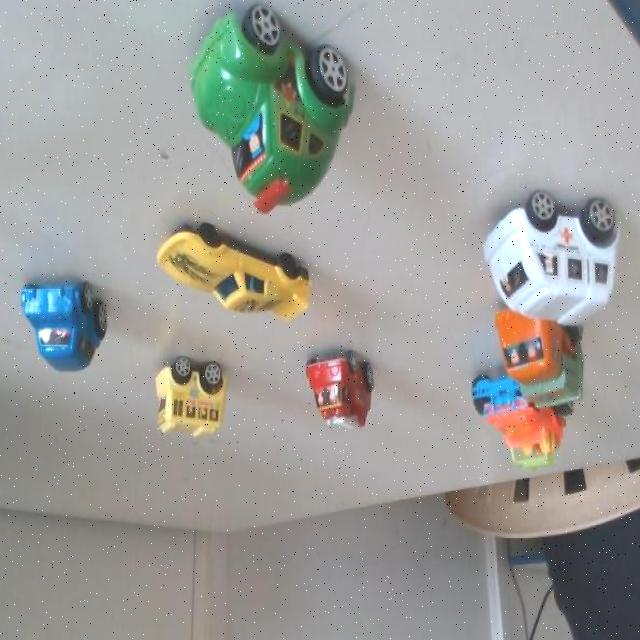car: (179, 8, 346, 208), (464, 164, 614, 349), (162, 208, 300, 335), (146, 341, 235, 444), (464, 369, 548, 475), (305, 330, 383, 444), (19, 272, 98, 374), (504, 298, 571, 416)
